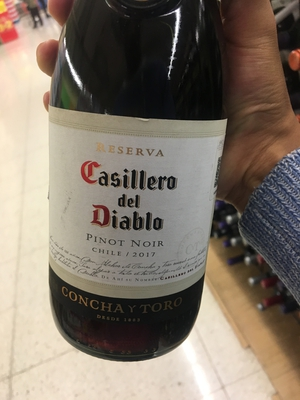casillero del diablo pinot noir: (47, 10, 238, 359)
